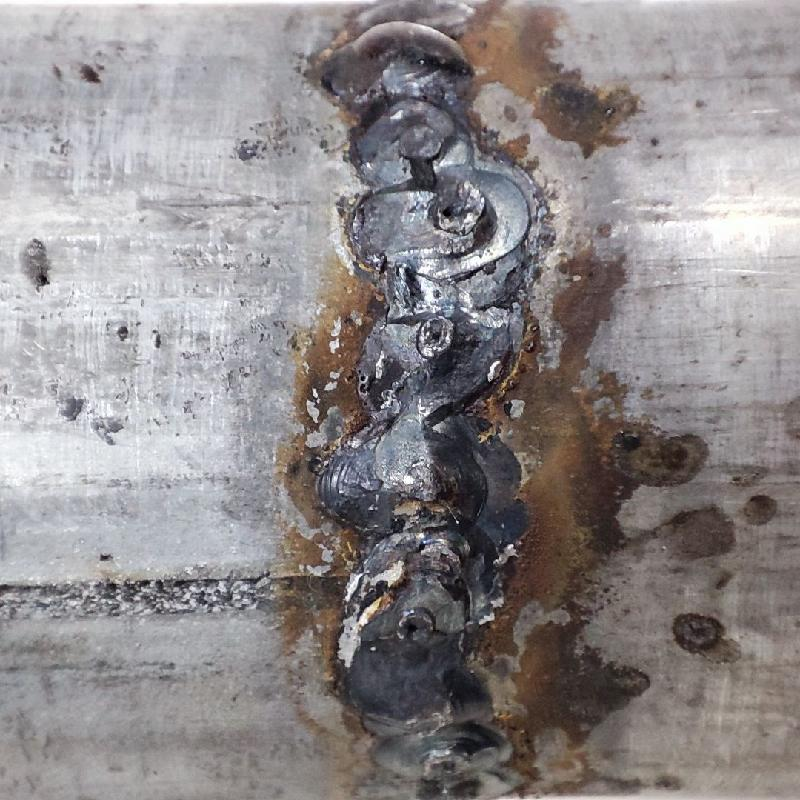Surface_pores: (421, 312, 468, 362), (428, 182, 466, 235), (393, 608, 434, 645)
Weld: (318, 23, 469, 100)
wrong_size: (277, 9, 533, 795)
